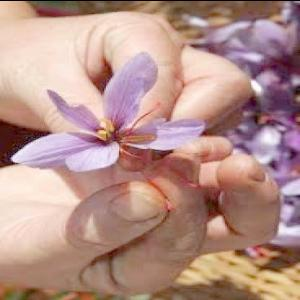Saffron: (11, 49, 204, 170)
